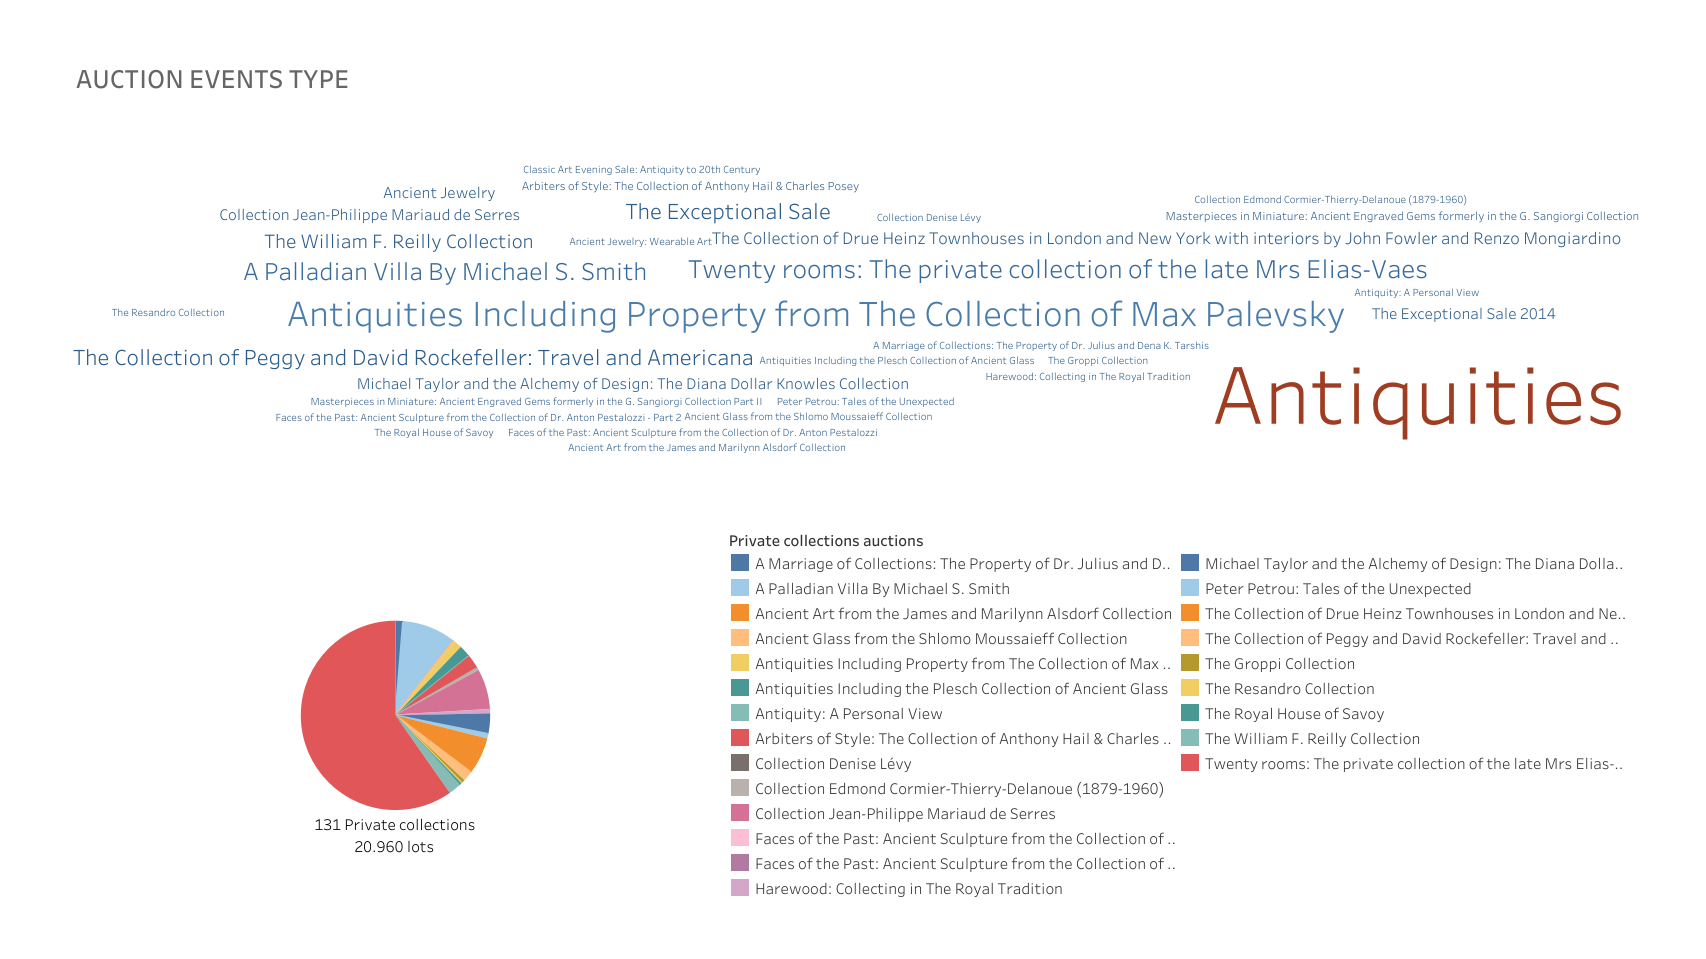

The dashboard page shown, as its layout file describes it:
{"tool":"tableau","page":{"name":"Auction events type","canvas":[1366,768],"ordinal":0},"visuals":[{"type":"blank","box":[8,8,46,720]},{"type":"blank","box":[54,8,1266,32]},{"type":"blank","box":[1320,8,38,720]},{"type":"text","box":[54,40,1266,44]},{"type":"worksheet","title":"Sum of total sale by auction category","mark":"Text","box":[54,84,1266,332.8]},{"type":"worksheet","title":"private collections cnt","mark":"Pie","box":[54,416.8,524,311.2]},{"type":"legend","title":"private collections cnt","param":"[federated.03kuak70c6f8cl1fomzfm1t0per9].[none:category:nk]","box":[578,416.8,742,311.2]},{"type":"blank","box":[8,728,1350,32]}]}

Visuals, with their boxes in screenshot pixels (x1, y1, x2, y2), scaled from the page's 1366x768 canvas onto the 1706x959 screenshot:
blank: <region>10, 10, 67, 909</region>
blank: <region>67, 10, 1649, 50</region>
blank: <region>1649, 10, 1696, 909</region>
text: <region>67, 50, 1649, 105</region>
"Sum of total sale by auction category" worksheet (Text marks): <region>67, 105, 1649, 520</region>
"private collections cnt" worksheet (Pie marks): <region>67, 520, 722, 909</region>
"private collections cnt" legend: <region>722, 520, 1649, 909</region>
blank: <region>10, 909, 1696, 949</region>
